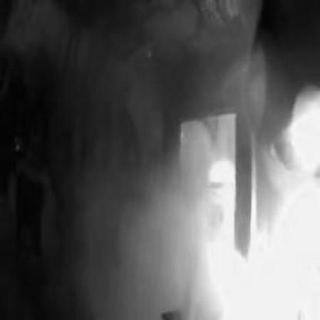other: (201, 154, 308, 314)
